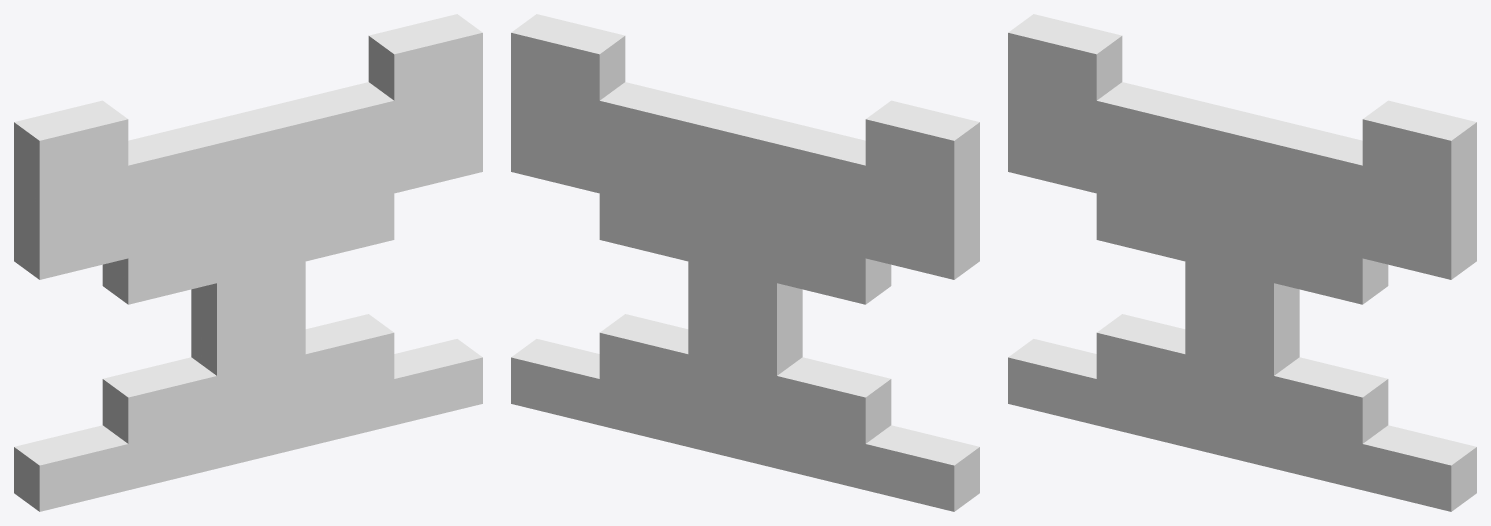
Rendered from Chalice-White.vox.obj.
3 renders of one model, left to right at view 1: azimuth 30°, elevation 25°; view 2: azimuth 150°, elevation 25°; view 3: azimuth 330°, elevation 25°, orthographic.
Bounding box in the file's own units: 1 × 0.8 × 0.1.
1 material, 1 textured.
